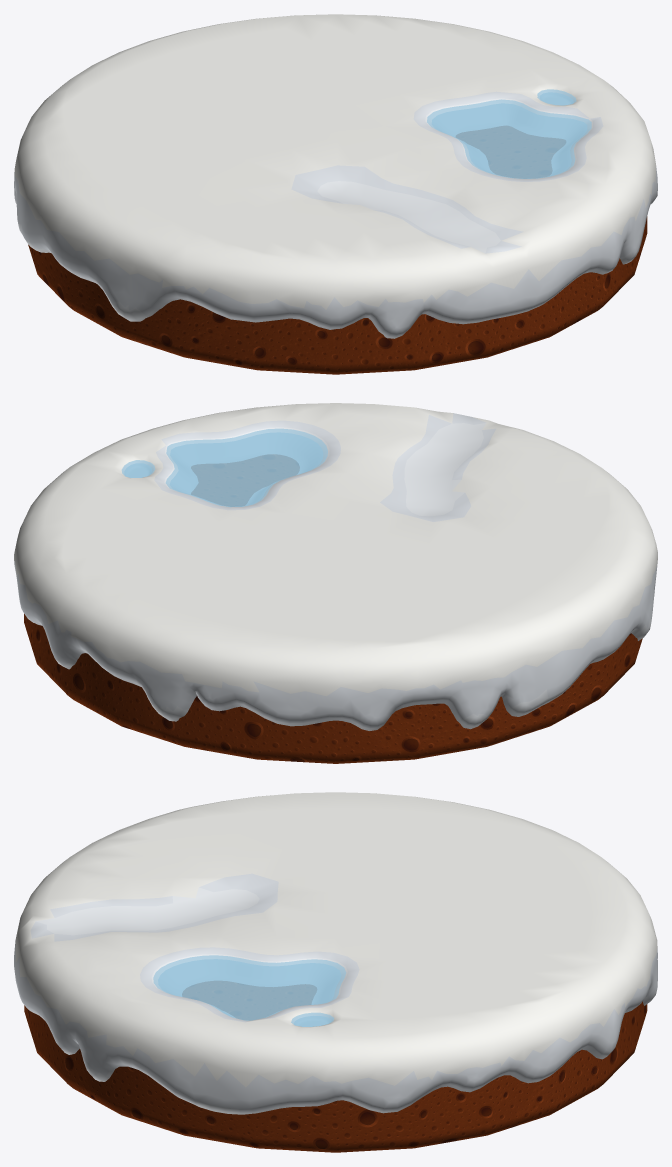
The model's file is base_natal_bolo_neve_pacote.glb.
3 views of the same model, one above another, from view 1: azimuth 30°, elevation 25°; view 2: azimuth 150°, elevation 25°; view 3: azimuth 270°, elevation 25° (orthographic).
Visible parts, largest first — view 1: colisao_malha, base_natal_bolo_neve_pacote; view 2: colisao_malha, base_natal_bolo_neve_pacote; view 3: colisao_malha, base_natal_bolo_neve_pacote.
Part boxes in pixels (x1,y1,x2,y2): colisao_malha: (14,14,657,374); base_natal_bolo_neve_pacote: (427,89,591,178); colisao_malha: (14,403,657,763); base_natal_bolo_neve_pacote: (122,429,327,506); colisao_malha: (14,792,657,1152); base_natal_bolo_neve_pacote: (153,955,345,1026).
Size of the model in its own units: 15.53 by 2.97 by 15.53.
3 materials, 2 textured.
